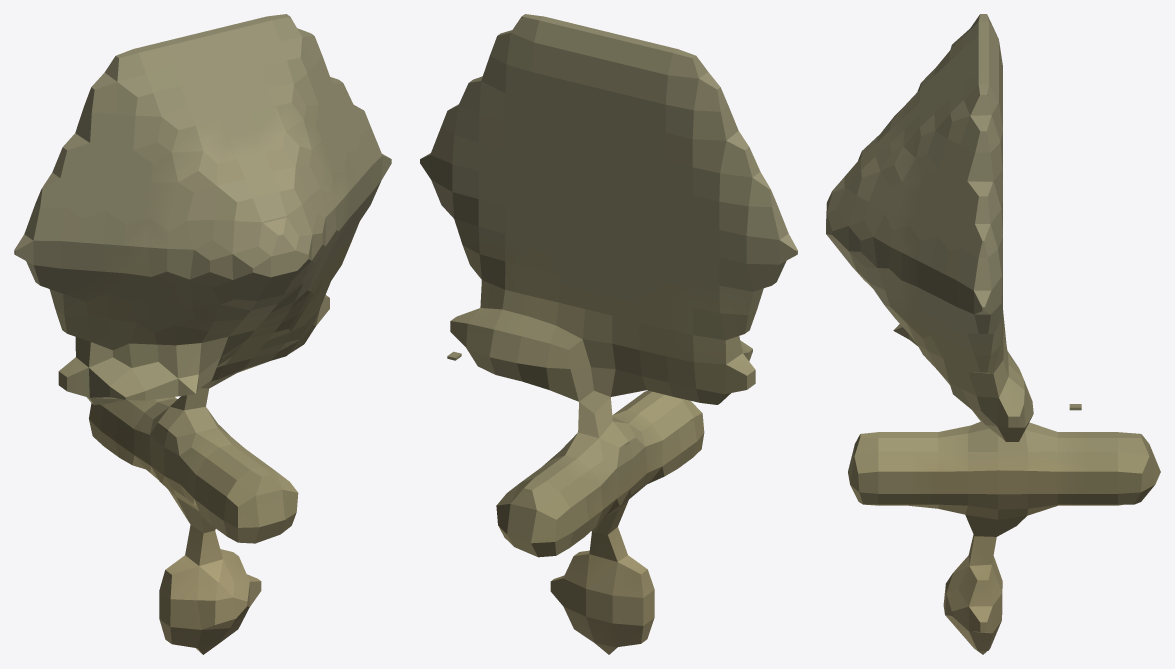
The model's file is treant.glb.
3 views of the same model, side by side, from view 1: azimuth 30°, elevation 25°; view 2: azimuth 150°, elevation 25°; view 3: azimuth 270°, elevation 25° (orthographic). The views are drawn at different scales.
Visible parts, largest first — view 1: geometry_0; view 2: geometry_0; view 3: geometry_0.
Part boxes in pixels (<box>): geometry_0: <box>14,14,391,654</box>; geometry_0: <box>420,14,797,654</box>; geometry_0: <box>826,14,1160,654</box>.
Bounding box in the file's own units: 0.5863 × 0.9232 × 0.4656.
Materials: 1 (1 with a texture image).
